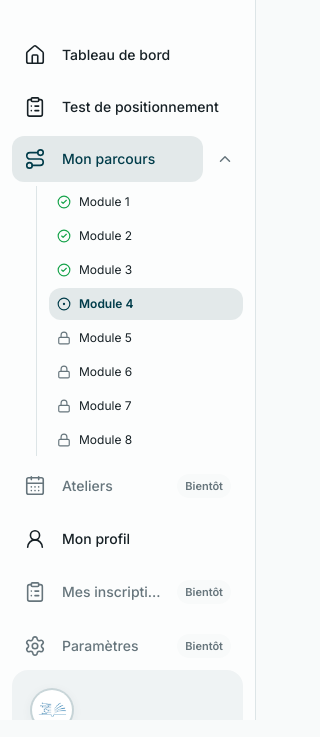
Test: Barre latérale — modules du parcours › développe et réduit le sous-menu des modules
The image size is (320, 737).
Expected: the list named "Modules du parcours" is shown, [36, 186, 243, 456]
Step 1. Click the button named "Réduire les modules" → (225,159), box [207, 137, 243, 181]
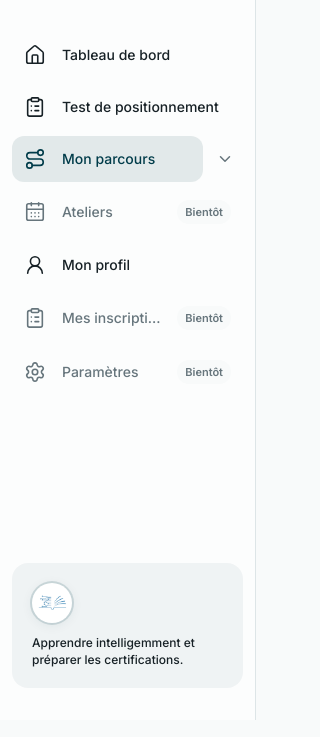
Expected: the button named "Développer les modules" is collapsed
Step 2. Click the button named "Développer les modules" → (225,159), box [207, 137, 243, 181]
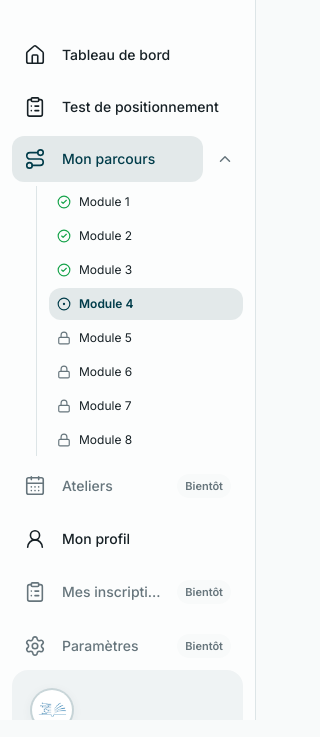
Expected: the list named "Modules du parcours" is shown, [36, 186, 243, 456]
